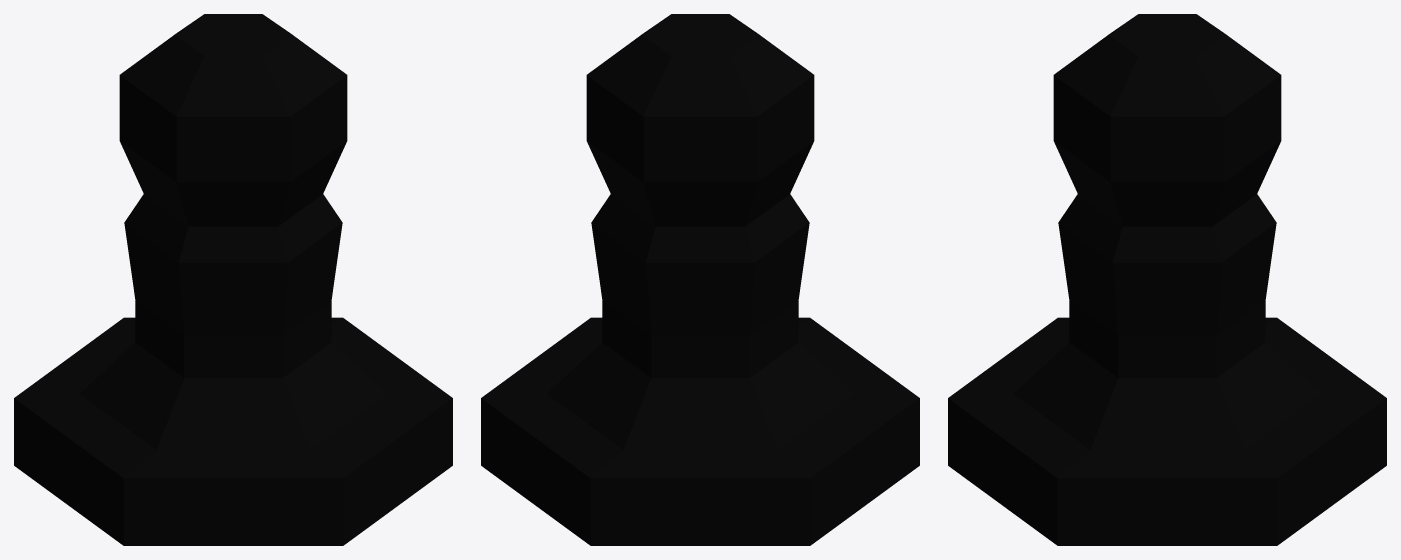
Rendered from chesspiecepawn02.obj.
3 renders of one model, left to right at view 1: azimuth 30°, elevation 25°; view 2: azimuth 150°, elevation 25°; view 3: azimuth 270°, elevation 25°, orthographic.
Parts seen in each view (by area): view 1: Cylinder; view 2: Cylinder; view 3: Cylinder.
Part boxes in pixels (x1,y1,x2,y2): Cylinder: (14, 14, 452, 545); Cylinder: (481, 14, 919, 545); Cylinder: (948, 14, 1386, 545).
Size of the model in its own units: 0.0177 by 0.0221 by 0.0204.
